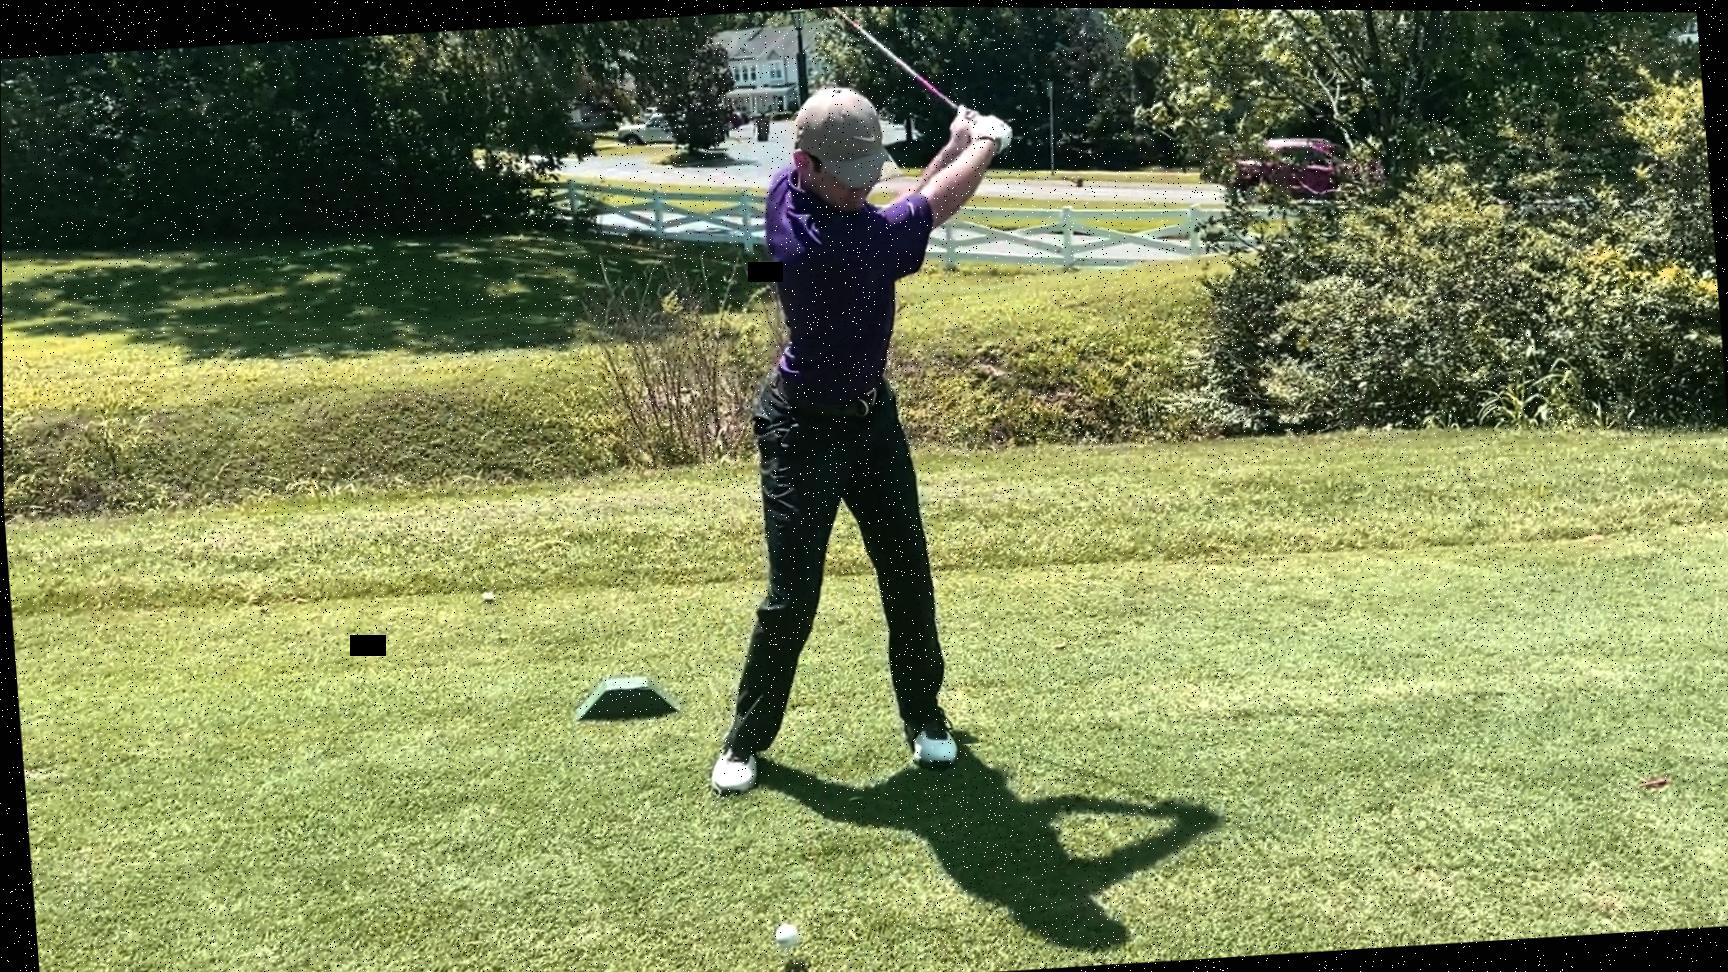GolfBall: (773, 921, 802, 951)
